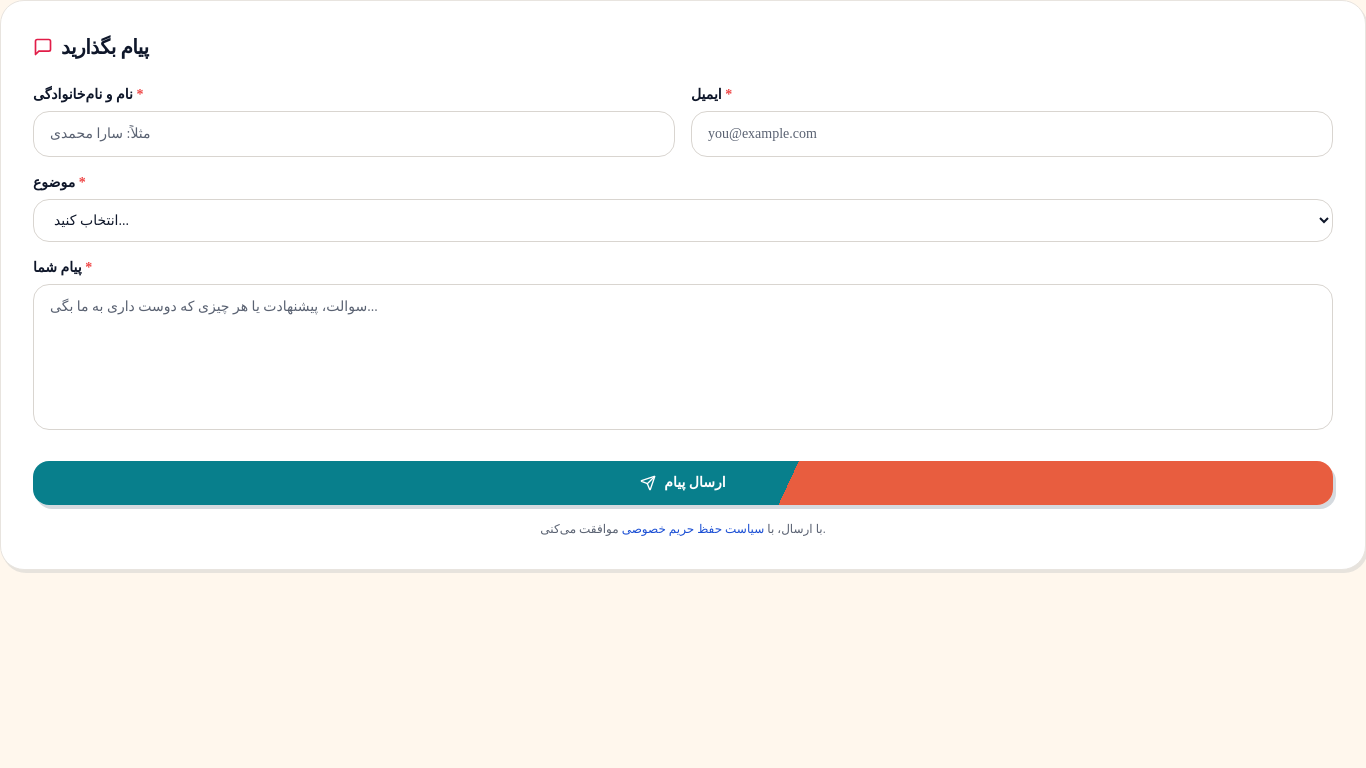
Test: ContactForm — accessibility › wires field errors via aria-describedby and aria-invalid
Submit the empty (noValidate) form to trigger client validation.
Click the button "ارسال پیام": (683, 483) [33,461,1333,505]
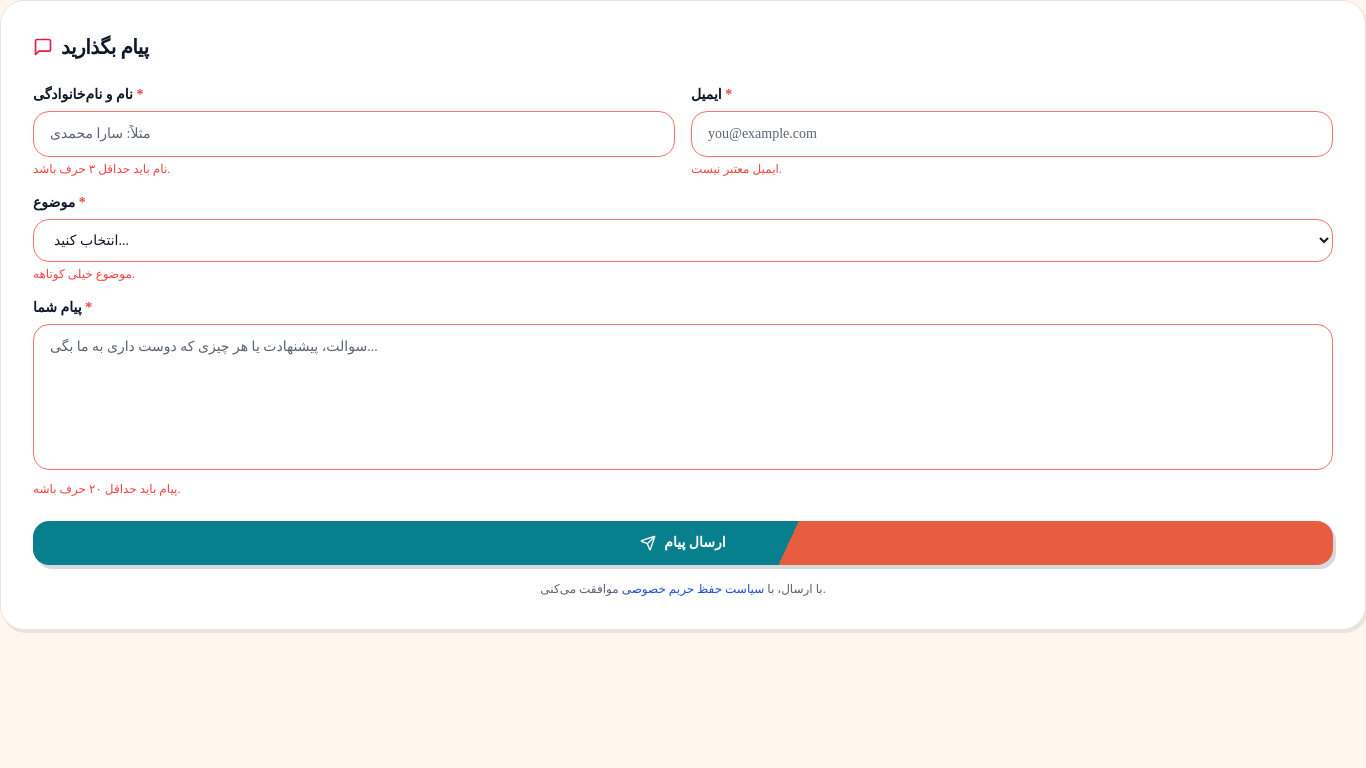
Check: the text with id "name-error" shows "حداقل ۳ حرف", box [33,162,170,176]
